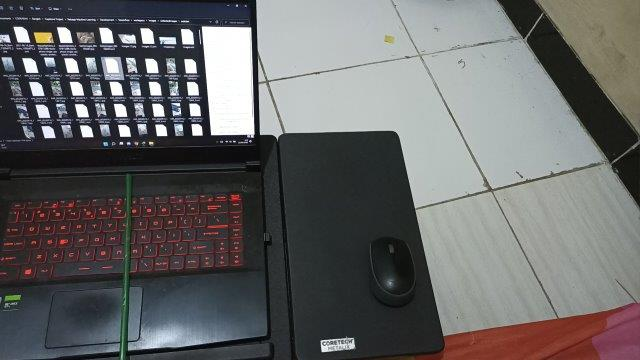sedotan: (120, 176, 131, 360)
